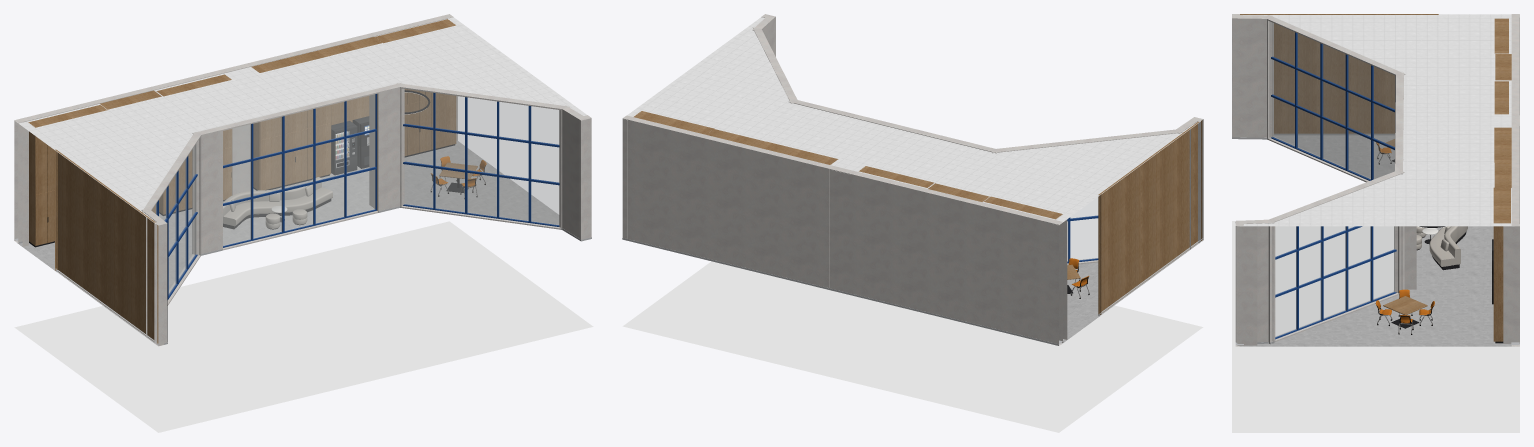
File: relax.glb
3 views of the same model, side by side, from view 1: azimuth 30°, elevation 25°; view 2: azimuth 150°, elevation 25°; view 3: azimuth 270°, elevation 25° (orthographic).
Visible parts, largest first — view 1: BAKE_statico, Vetri.001; view 2: BAKE_statico, Vetri.001; view 3: BAKE_statico, Vetri.001, BAKE_sedie.
Part boxes in pixels (box(x1,y1,x2,y2)): BAKE_statico: box(14, 14, 593, 432); Vetri.001: box(152, 89, 558, 294); BAKE_statico: box(622, 14, 1203, 432); Vetri.001: box(1067, 197, 1097, 261); BAKE_statico: box(1232, 14, 1519, 432); Vetri.001: box(1272, 23, 1394, 337); BAKE_sedie: box(1375, 142, 1434, 334).
Bounding box in the file's own units: 18.93 × 8.62 × 10.86.
39 materials, 9 textured.
